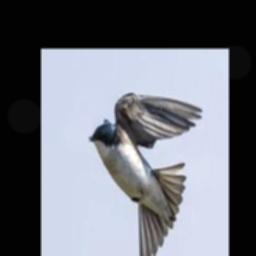Swallow: (89, 93, 202, 256)
